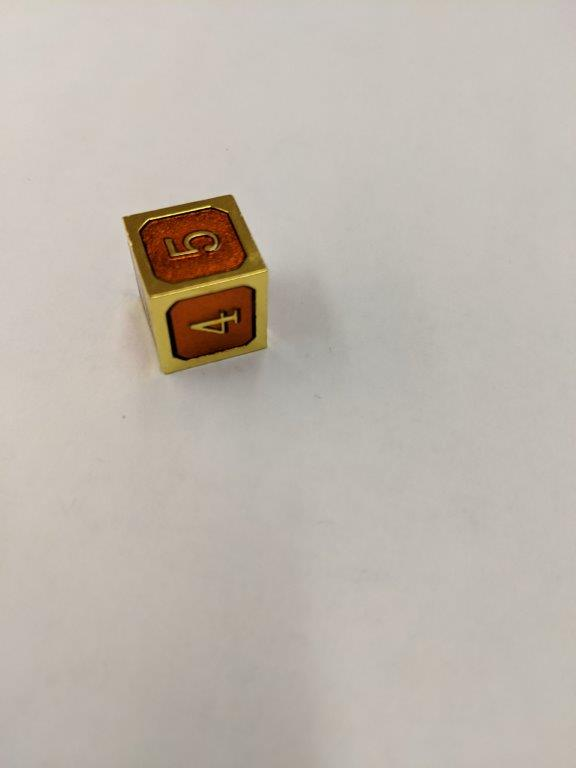d6-5: (120, 192, 270, 377)
